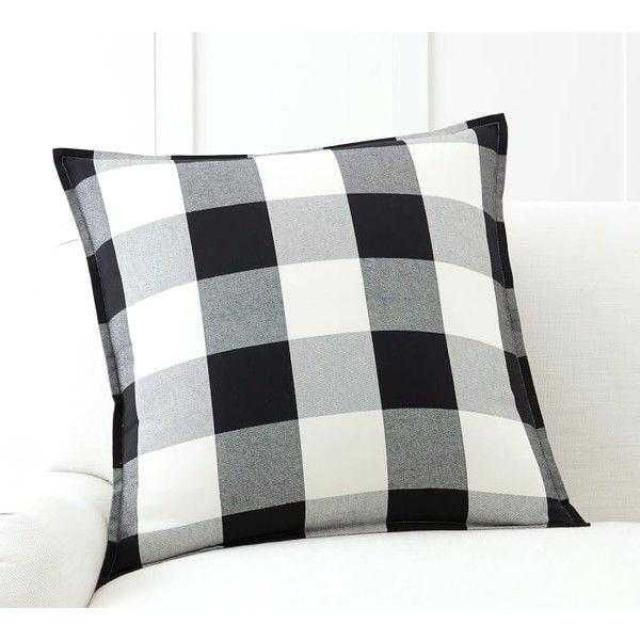pillow: (51, 110, 591, 596)
